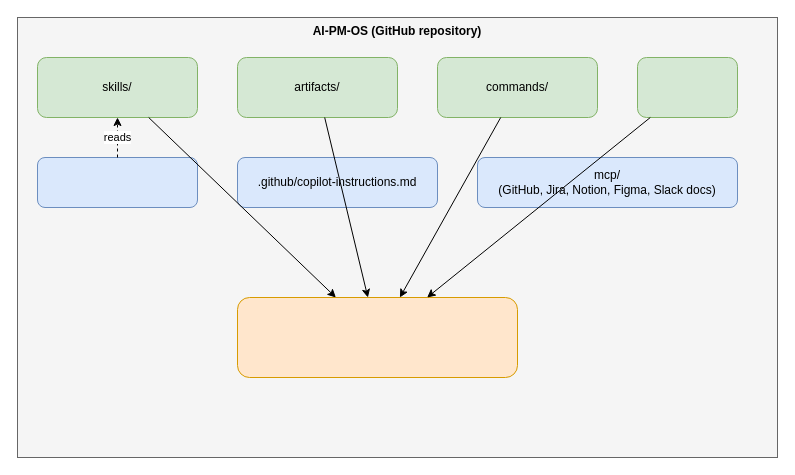
Some shapes in this 795 by 475 pixel diagram are drawn without their labels. The box of each missing label's shape, as (x1, y1, x2, y2) in pixels:
CLAUDE.md: (36, 156, 198, 208)
projects/ project-a · project-b · project-c: (236, 296, 518, 378)
settings/: (636, 56, 738, 118)
